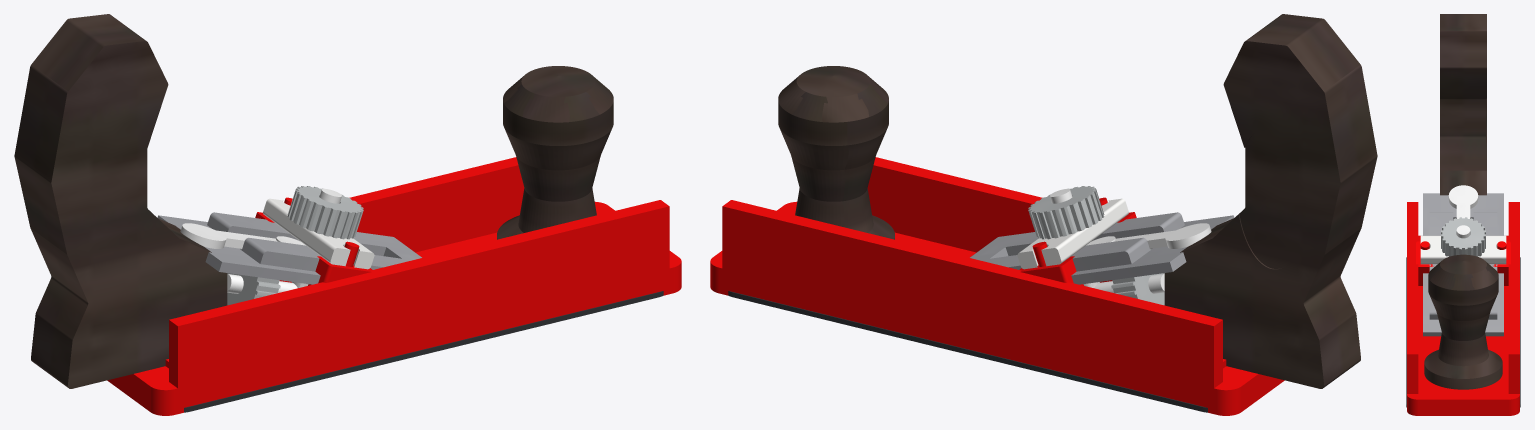
File: Handtools_Hand_plane__0014.glb
3 views of the same model, side by side, from view 1: azimuth 30°, elevation 25°; view 2: azimuth 150°, elevation 25°; view 3: azimuth 270°, elevation 25° (orthographic). The views are drawn at different scales.
Visible parts, largest first — view 1: plane_body::casting, rear_tote::tote, front_knob::knob, cutting_iron::iron, plane_body::sole_edge, thumbscrew::screw, clamp_bar::bar, lateral_lever::lever, plane_body::clamp_boss_1, depth_wheel::wheel; view 2: plane_body::casting, rear_tote::tote, front_knob::knob, cutting_iron::iron, plane_body::sole_edge, thumbscrew::screw, clamp_bar::bar, lateral_lever::lever, plane_body::clamp_boss_0, depth_wheel::wheel; view 3: plane_body::casting, rear_tote::tote, front_knob::knob, cutting_iron::iron, thumbscrew::screw, clamp_bar::bar, lateral_lever::lever, plane_body::clamp_boss_0, plane_body::clamp_boss_1, plane_body::sole_edge, plane_body::thumbscrew_stud.
Part boxes in pixels (left/top/right/bottom): plane_body::casting: left=107, top=157, right=681, bottom=415; rear_tote::tote: left=14, top=14, right=227, bottom=388; front_knob::knob: left=497, top=66, right=613, bottom=239; cutting_iron::iron: left=157, top=212, right=421, bottom=284; plane_body::sole_edge: left=184, top=291, right=663, bottom=412; thumbscrew::screw: left=287, top=186, right=363, bottom=239; clamp_bar::bar: left=263, top=198, right=374, bottom=269; lateral_lever::lever: left=180, top=223, right=305, bottom=248; plane_body::clamp_boss_1: left=308, top=241, right=372, bottom=285; depth_wheel::wheel: left=227, top=249, right=280, bottom=305; plane_body::casting: left=710, top=157, right=1284, bottom=415; rear_tote::tote: left=1164, top=14, right=1377, bottom=388; front_knob::knob: left=778, top=66, right=894, bottom=239; cutting_iron::iron: left=970, top=212, right=1234, bottom=284; plane_body::sole_edge: left=728, top=291, right=1207, bottom=412; thumbscrew::screw: left=1028, top=186, right=1104, bottom=239; clamp_bar::bar: left=1017, top=198, right=1128, bottom=269; lateral_lever::lever: left=1086, top=223, right=1211, bottom=248; plane_body::clamp_boss_0: left=1019, top=241, right=1083, bottom=285; depth_wheel::wheel: left=1111, top=249, right=1164, bottom=305; plane_body::casting: left=1407, top=202, right=1519, bottom=415; rear_tote::tote: left=1440, top=14, right=1486, bottom=195; front_knob::knob: left=1424, top=254, right=1502, bottom=389; cutting_iron::iron: left=1423, top=193, right=1503, bottom=336; thumbscrew::screw: left=1441, top=217, right=1485, bottom=256; clamp_bar::bar: left=1420, top=235, right=1506, bottom=264; lateral_lever::lever: left=1448, top=185, right=1478, bottom=218; plane_body::clamp_boss_0: left=1493, top=241, right=1510, bottom=285; plane_body::clamp_boss_1: left=1416, top=241, right=1433, bottom=285; plane_body::sole_edge: left=1406, top=257, right=1520, bottom=407; plane_body::thumbscrew_stud: left=1456, top=225, right=1470, bottom=238.
Size of the model in its own units: 0.1982 by 0.1119 by 0.0505.
7 materials, 5 textured.
